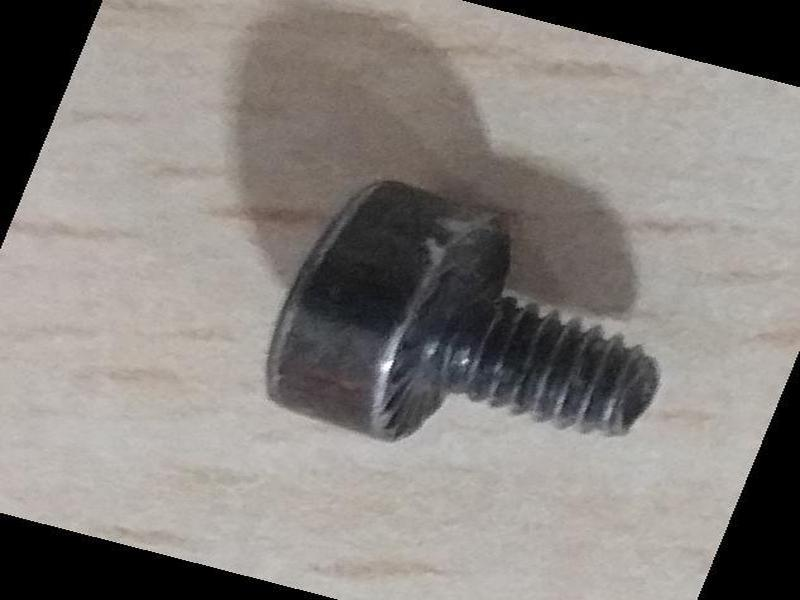verysmallscrew: (242, 147, 672, 493)
